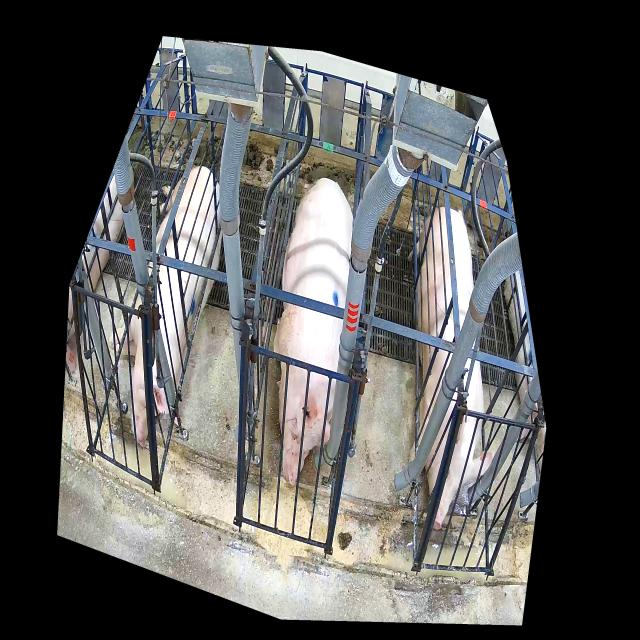pig: (108, 165, 223, 446), (406, 206, 495, 529), (273, 178, 354, 485)
